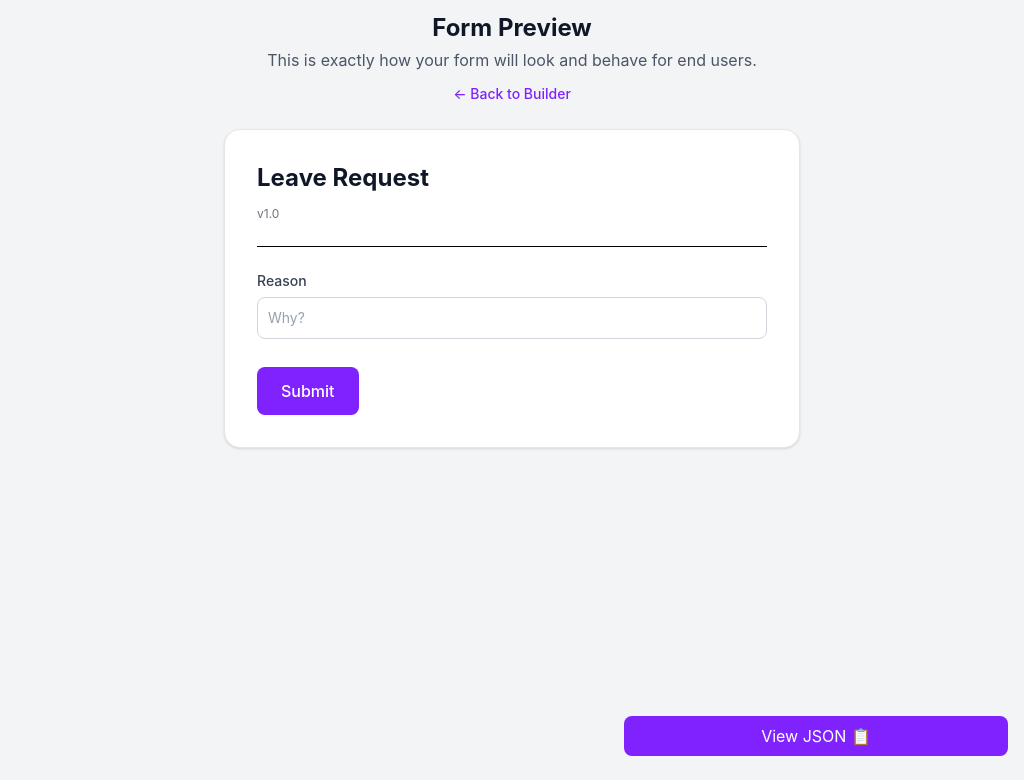
Test: Preview page › starts a submission at the linked workflow's first stage
Type "Vacation" into the field with placeholder "Why?" at [512, 318], box top-left (257, 297), bottom-right (767, 339)
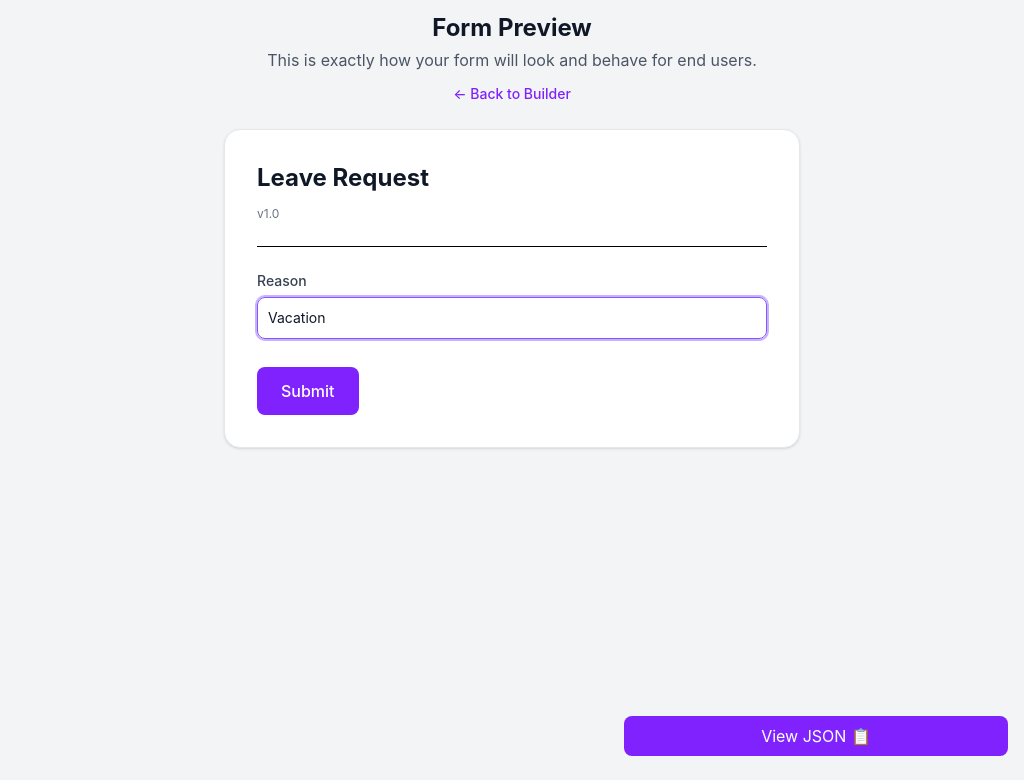
Click the button "Submit" at [308, 391], box top-left (257, 367), bottom-right (358, 415)
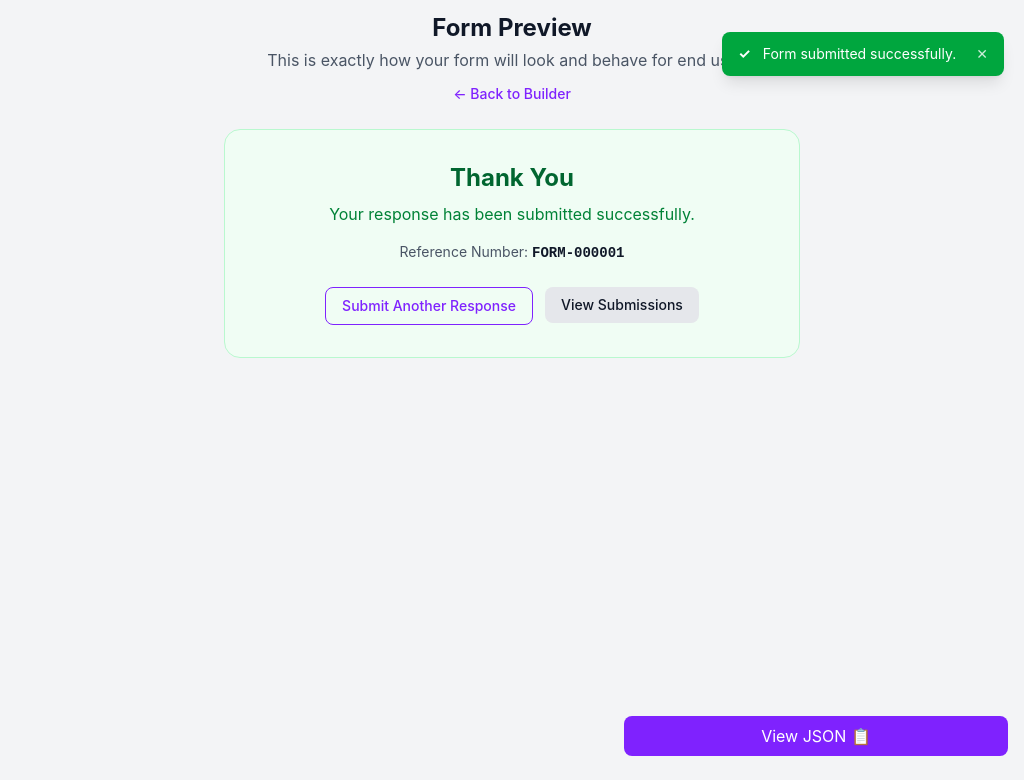
Now the text "Thank You" is shown, box top-left (450, 163), bottom-right (574, 192)
